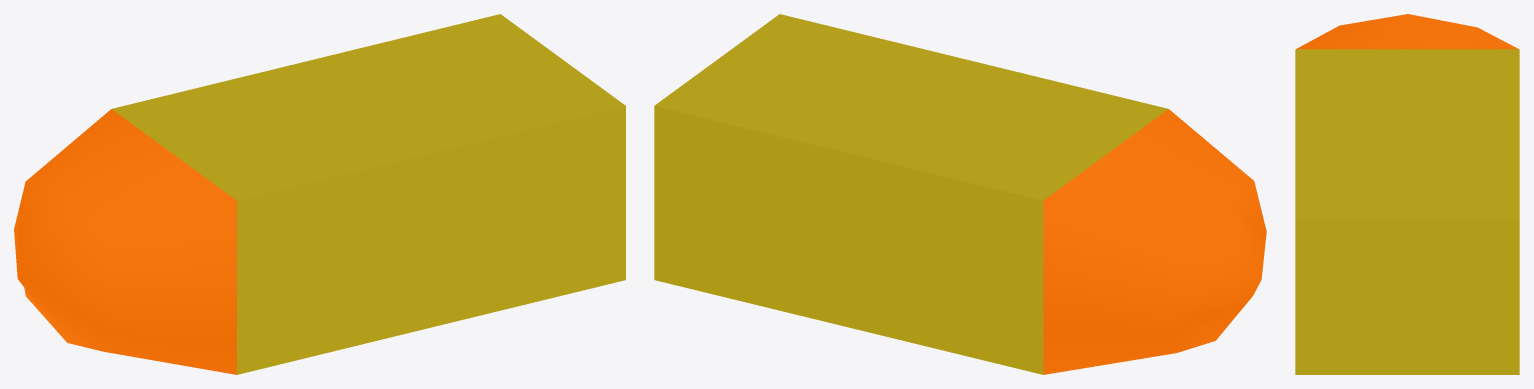
Rendered from bullet.glb.
3 renders of one model, left to right at view 1: azimuth 30°, elevation 25°; view 2: azimuth 150°, elevation 25°; view 3: azimuth 270°, elevation 25°, orthographic. The views are drawn at different scales.
Parts seen in each view (by area): view 1: Cube, Cube.001; view 2: Cube, Cube.001; view 3: Cube, Cube.001.
Part boxes in pixels (x1,y1,x2,y2): Cube: (112,14,625,374); Cube.001: (14,109,236,374); Cube: (654,14,1167,374); Cube.001: (1043,109,1266,374); Cube: (1295,49,1519,374); Cube.001: (1296,14,1518,49).
Bounding box in the file's own units: 1.18 × 0.3614 × 0.4719.
